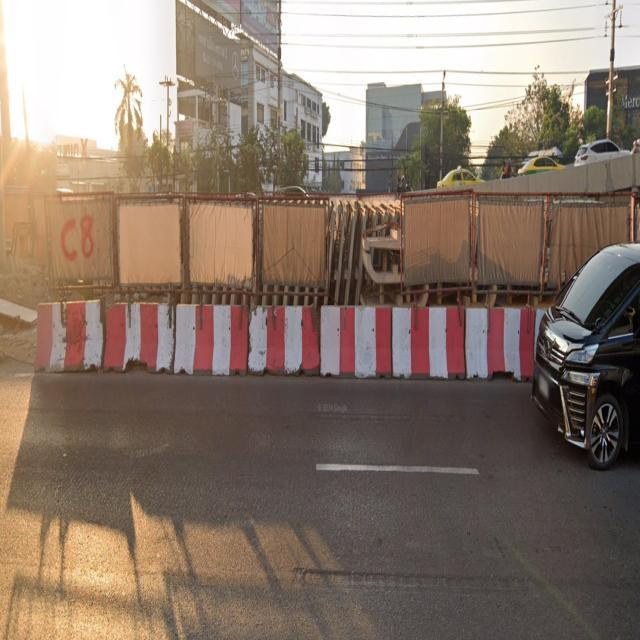fallen_object: (306, 302, 483, 387), (160, 293, 270, 376), (449, 306, 548, 386), (243, 296, 331, 383), (99, 290, 174, 383), (39, 280, 113, 367)
